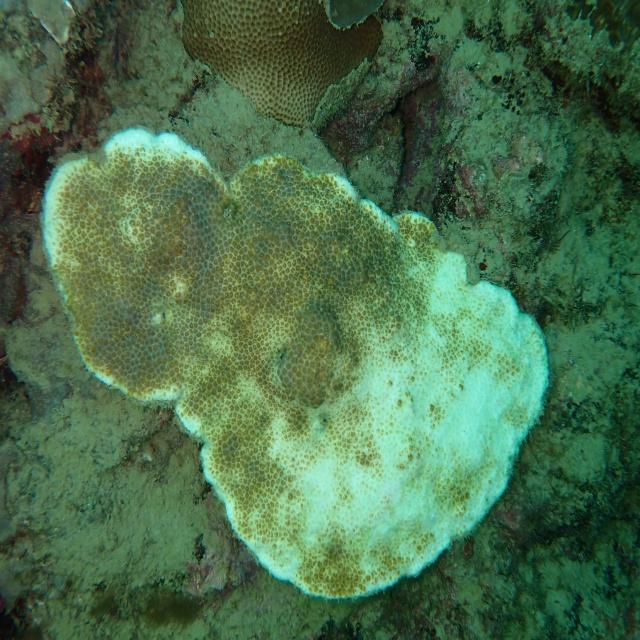Coral: (42, 126, 550, 601), (180, 0, 384, 127)
